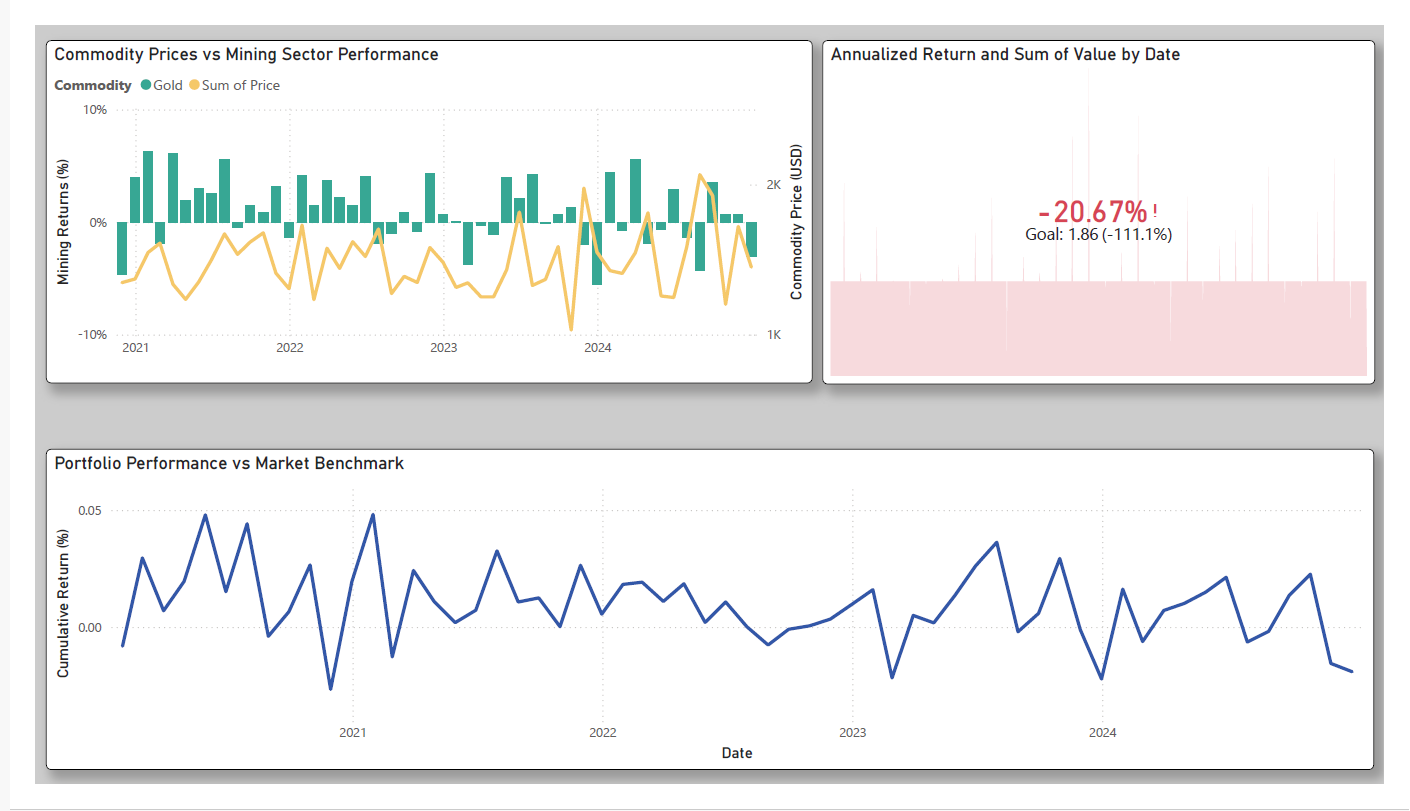

The dashboard page shown, as its layout file describes it:
{"tool":"powerbi","page":{"name":"MARKET CONTEXT","canvas":[1280,720],"ordinal":3},"visuals":[{"type":"lineChart","title":"Portfolio Performance vs Market Benchmark","fields":{"Category":["powerbi_fact_performance.Date"],"Y":["Attribution Components.Portfolio Cumulative Return"]},"box":[9.6,402.1,1261.1,304.6],"z":0},{"type":"lineClusteredColumnComboChart","title":"Commodity Prices vs Mining Sector Performance","fields":{"Y":["powerbi_fact_performance.Total Return"],"Category":["Date Dim.Date.Variation.Date Hierarchy.Month"],"Y2":["Sum(powerbi_fact_commodities.Price)"],"Series":["powerbi_fact_commodities.Commodity"]},"box":[9.6,13.7,728.6,326.6],"z":1000},{"type":"kpi","fields":{"Indicator":["powerbi_fact_performance.Annualized Return"],"TrendLine":["Date Dim.Date"],"Goal":["Sum(powerbi_kpis.Value)"]},"box":[746.8,14.5,524.8,326.9],"z":1001}]}

Visuals, with their boxes in screenshot pixels (x1, y1, x2, y2), scaled from the page's 1280x720 canvas onto the 1410x811 screenshot:
"Portfolio Performance vs Market Benchmark" lineChart: l=11, t=453, r=1400, b=796
"Commodity Prices vs Mining Sector Performance" lineClusteredColumnComboChart: l=11, t=15, r=813, b=383
kpi - powerbi_fact_performance.Annualized Return x Date Dim.Date: l=823, t=16, r=1401, b=385
